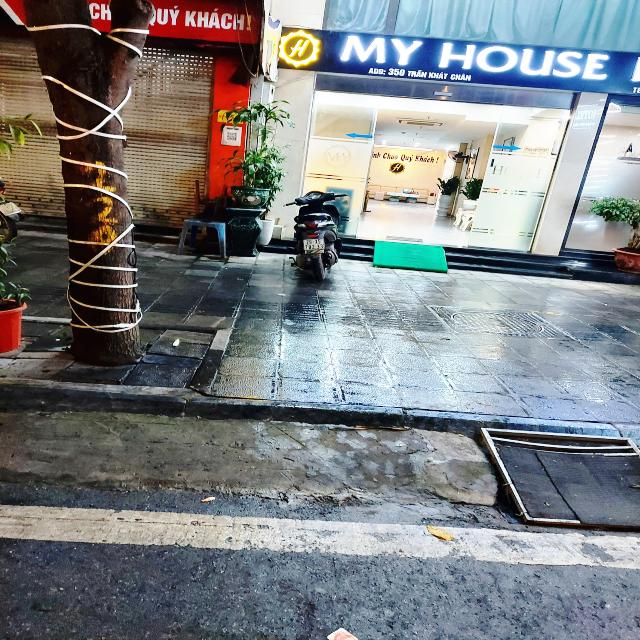license_plate: (303, 239, 326, 251)
